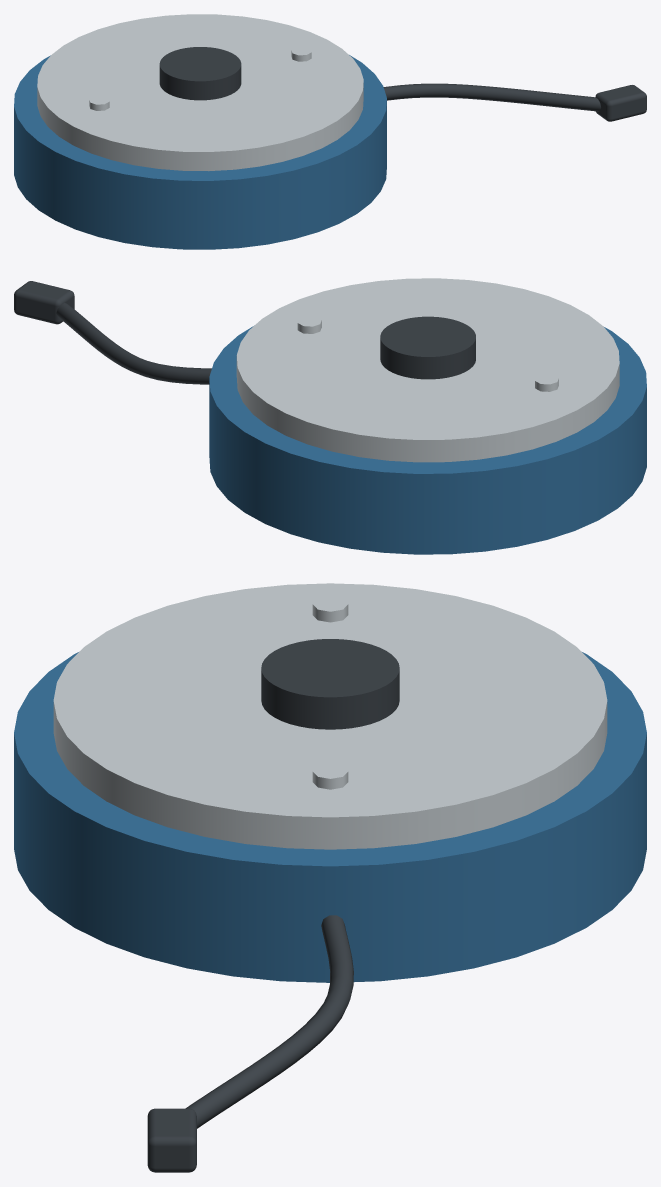
Rendered from fencing-club-and-tournament-piste-piste-reel-57e3eea8__31210.glb.
3 renders of one model, top to bottom at view 1: azimuth 30°, elevation 25°; view 2: azimuth 150°, elevation 25°; view 3: azimuth 270°, elevation 25°, orthographic. The views are drawn at different scales.
Visible parts, largest first — view 1: piste-reel; view 2: piste-reel; view 3: piste-reel.
Part boxes in pixels (bbox=[...]): piste-reel: bbox=[14, 14, 646, 249]; piste-reel: bbox=[14, 278, 646, 554]; piste-reel: bbox=[14, 583, 646, 1172].
Size of the model in its own units: 0.55 by 0.101 by 0.32.
